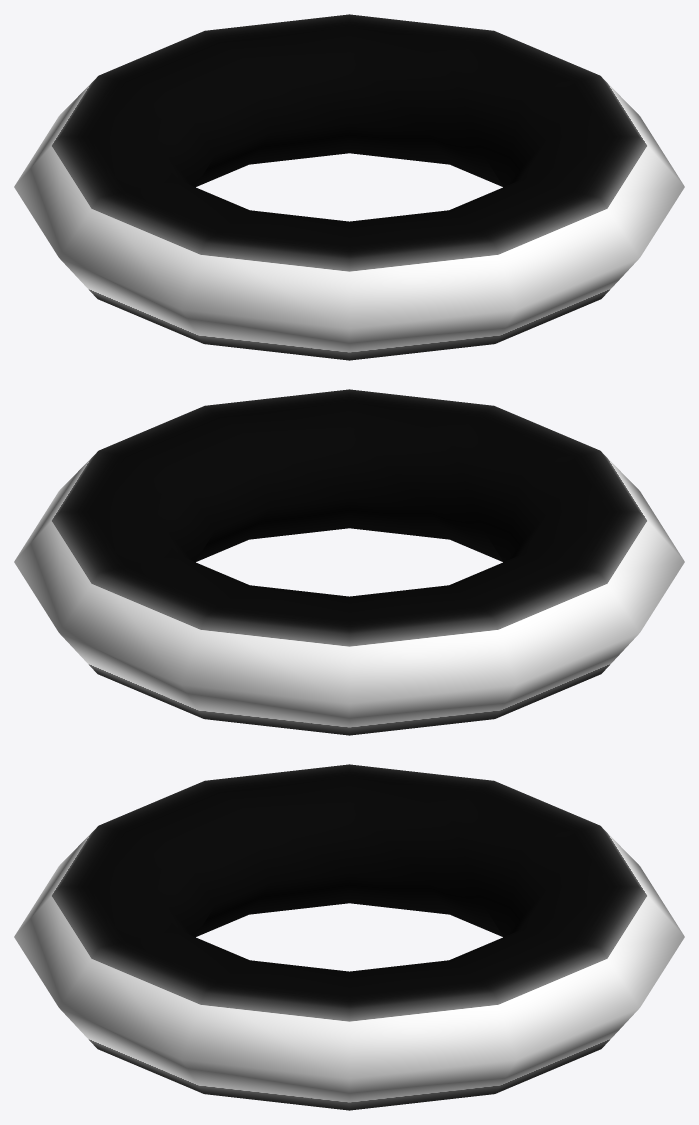
The model's file is kds.FBX.
3 views of the same model, one above another, from view 1: azimuth 30°, elevation 25°; view 2: azimuth 150°, elevation 25°; view 3: azimuth 270°, elevation 25° (orthographic).
Parts seen in each view (by area): view 1: Torus001; view 2: Torus001; view 3: Torus001.
Part boxes in pixels (x1,y1,x2,y2): Torus001: (14, 14, 684, 360); Torus001: (14, 389, 684, 735); Torus001: (14, 764, 684, 1110).
Bounding box in the file's own units: 45.46 × 7.57 × 45.46.
1 material, 1 textured.
